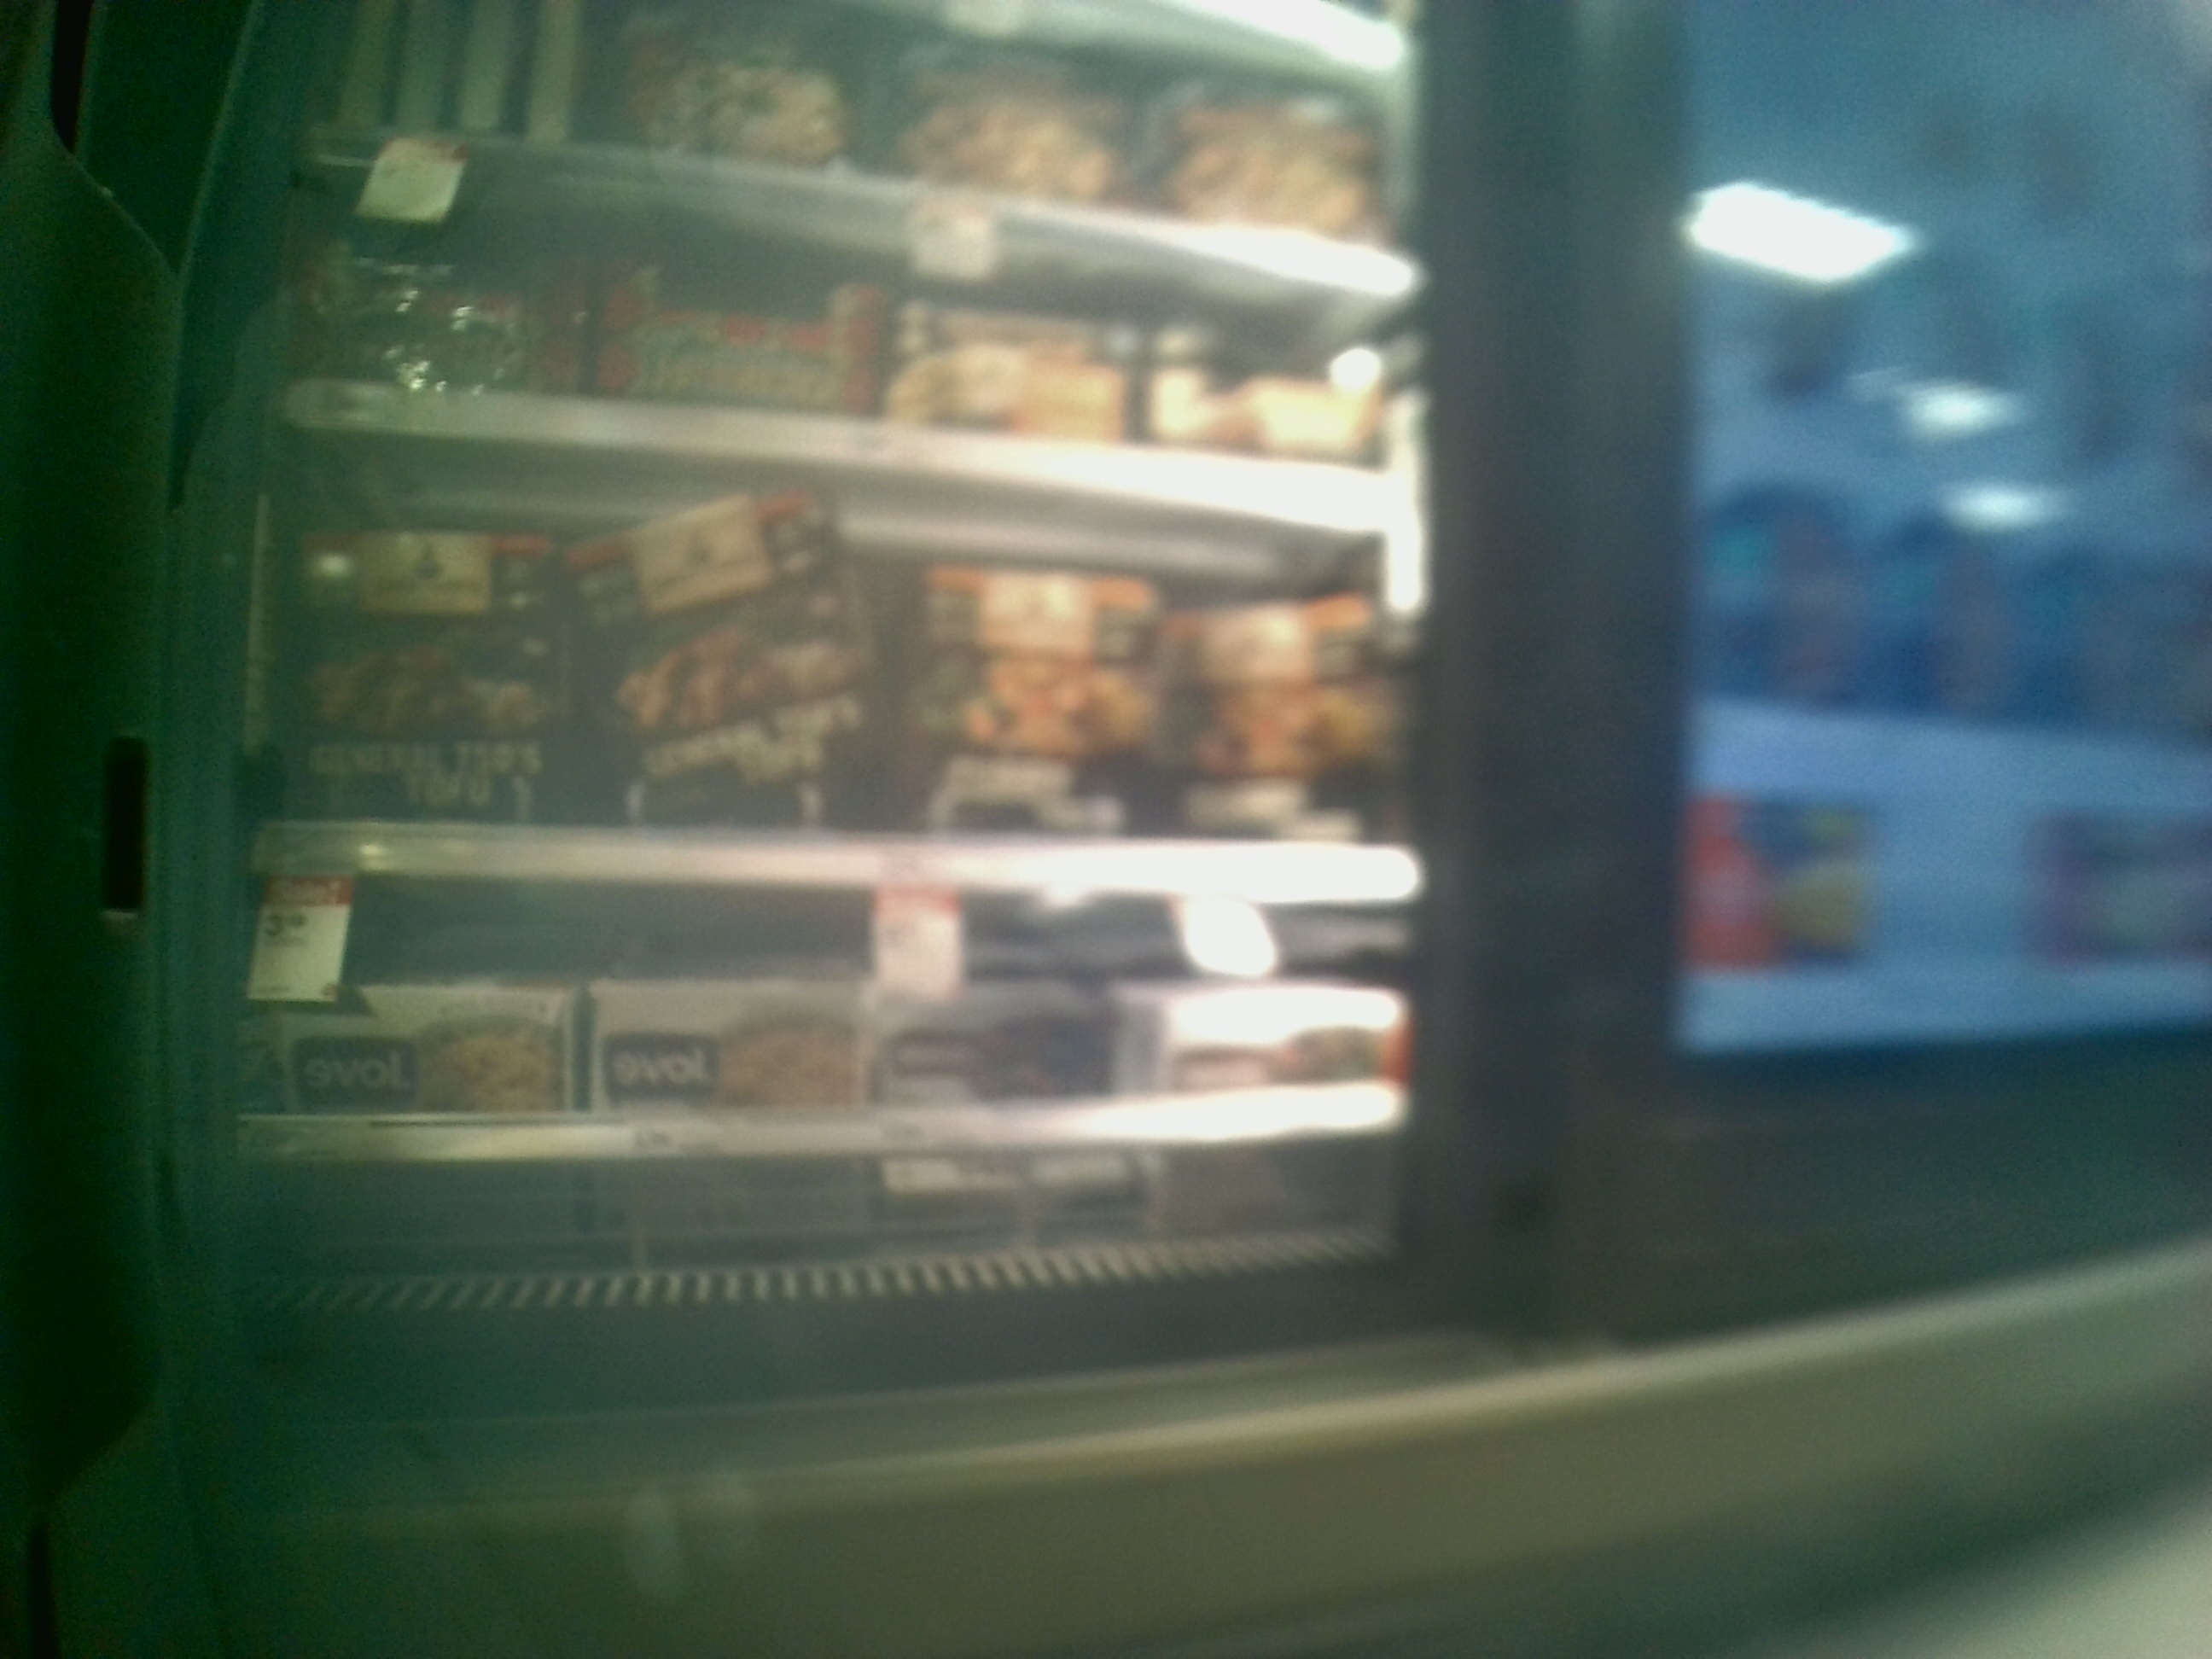frozen-food-shelf: (235, 523, 1435, 899), (228, 899, 1446, 1168)
